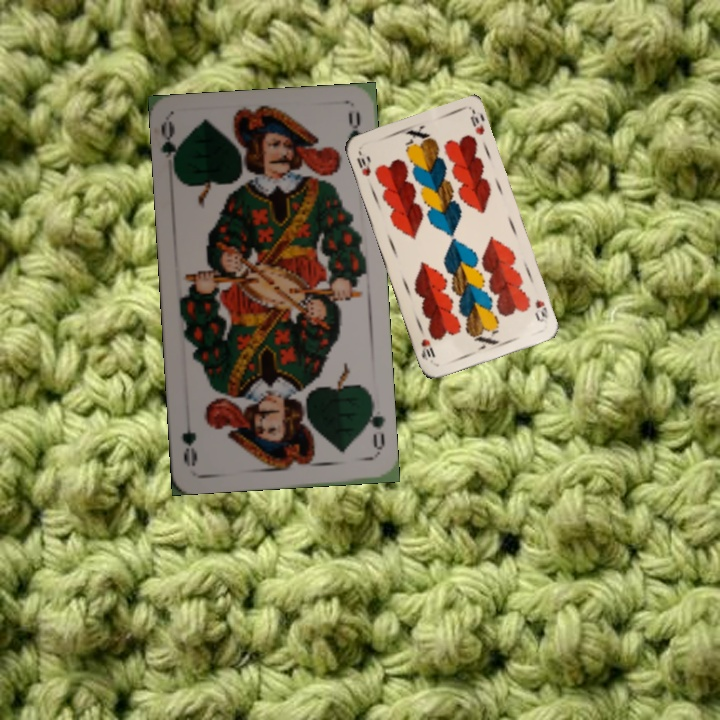GO: (156, 119, 185, 178), (361, 398, 388, 457)
H10: (531, 295, 550, 325), (353, 153, 373, 179)
